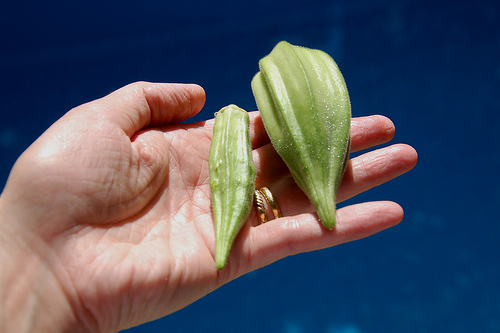okra: (249, 40, 354, 230), (205, 100, 253, 268)
